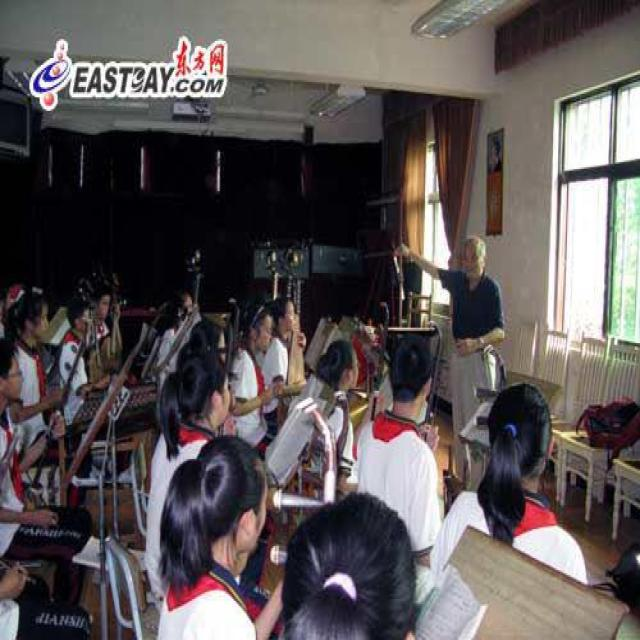head: (278, 486, 411, 634), (179, 430, 269, 567), (480, 372, 553, 486), (379, 334, 435, 412), (178, 350, 225, 430), (315, 336, 358, 396), (13, 288, 47, 339), (242, 300, 273, 355), (271, 288, 296, 343), (197, 314, 225, 362), (457, 232, 486, 277), (65, 295, 90, 331), (91, 285, 111, 316)
